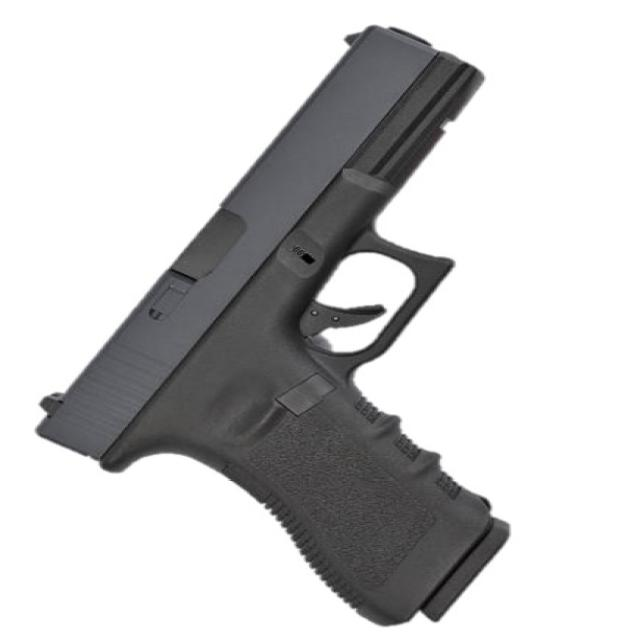pistol: (21, 21, 523, 636)
